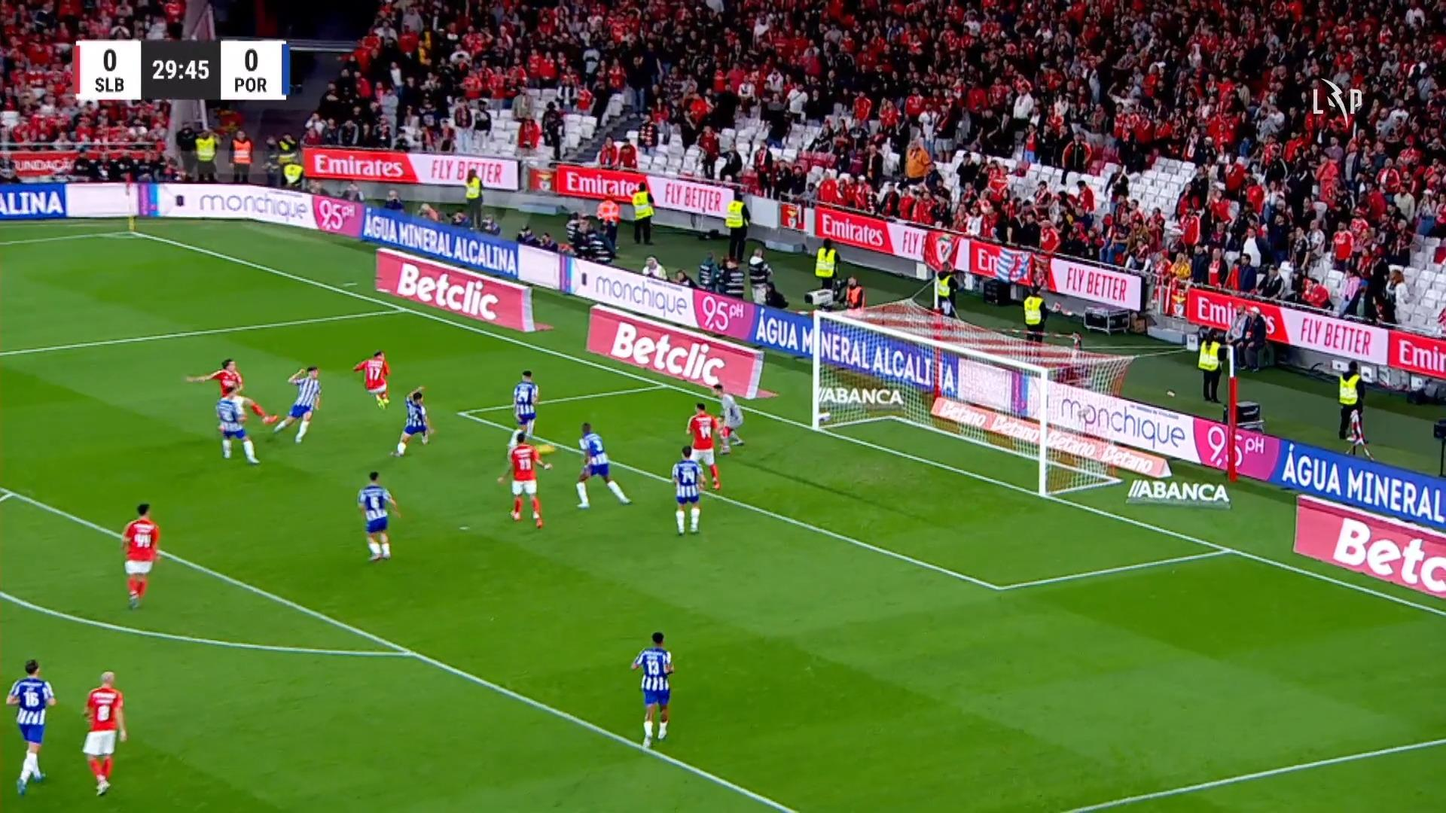goalkeeper: (710, 382, 745, 454)
player: (5, 658, 56, 795), (81, 670, 127, 796), (497, 428, 552, 528), (630, 631, 674, 747), (574, 421, 632, 508), (214, 382, 275, 464), (120, 502, 161, 610), (271, 364, 322, 443), (356, 470, 400, 561), (685, 401, 726, 491), (670, 445, 706, 535), (389, 386, 432, 457), (185, 357, 243, 400), (352, 349, 391, 410), (511, 369, 539, 440)
